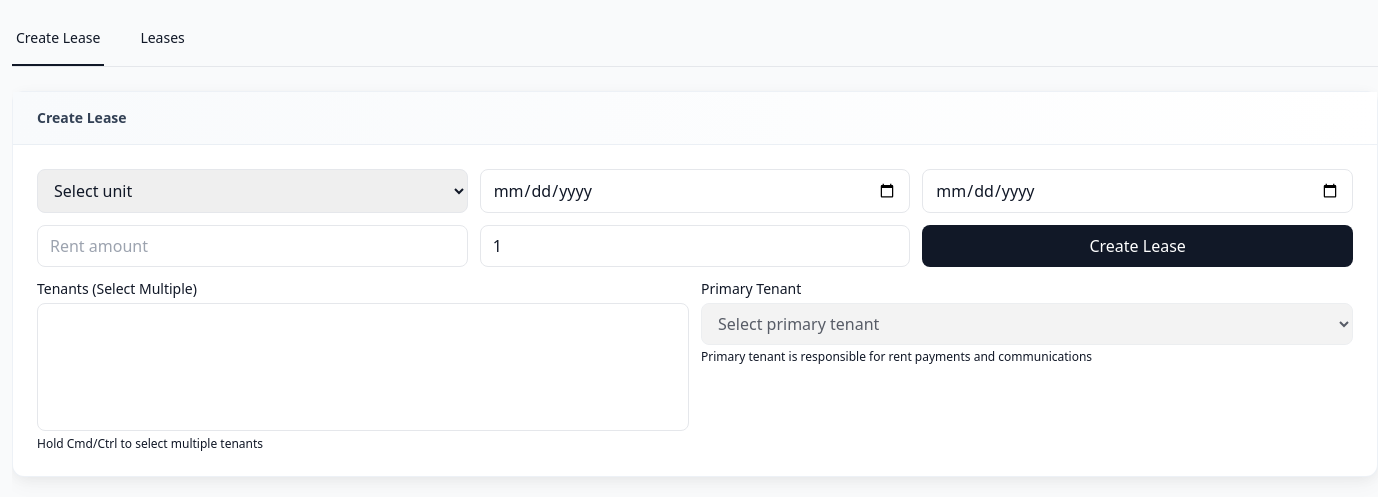
Scenario: LeasesPage › should show empty leases state
Click the button "Leases". click: (163, 39)
box: [136,12,189,66]
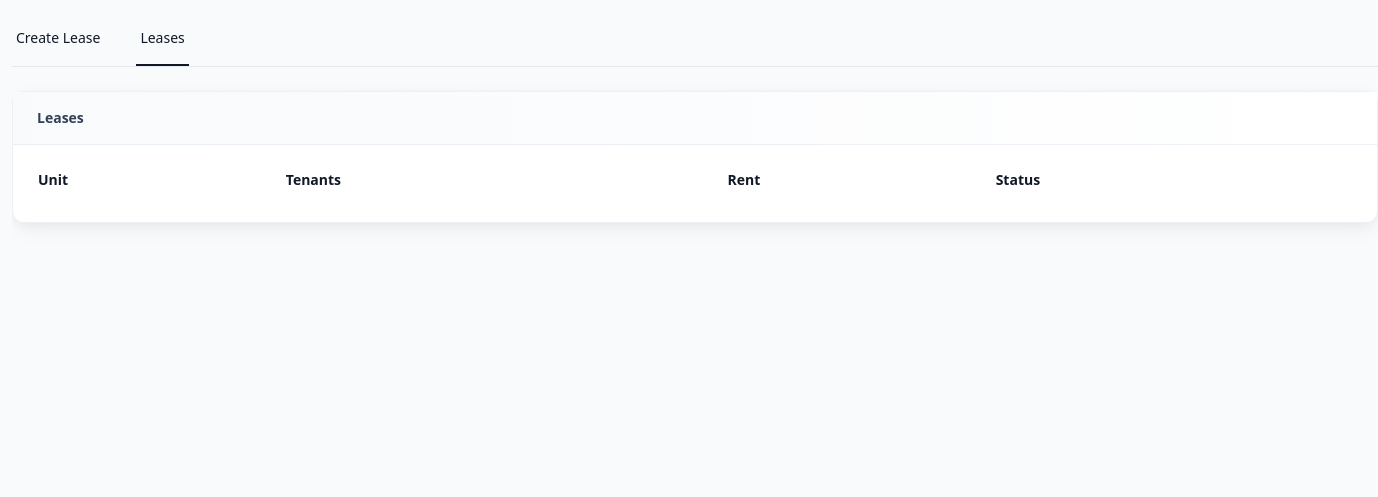
Expected: the column heading "Tenants" is shown, [285,169,726,198]
Now the column heading "Unit" is shown, box [37,169,285,198]
Now the column heading "Status" is shown, box [995,169,1353,198]
